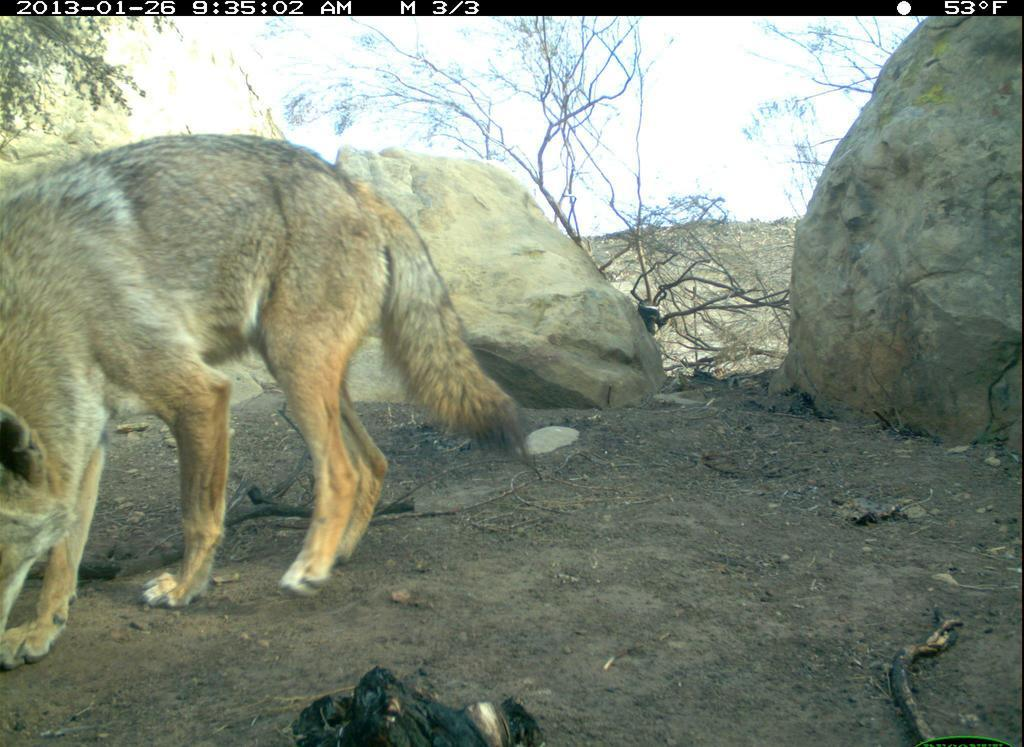coyote: (2, 98, 539, 702)
